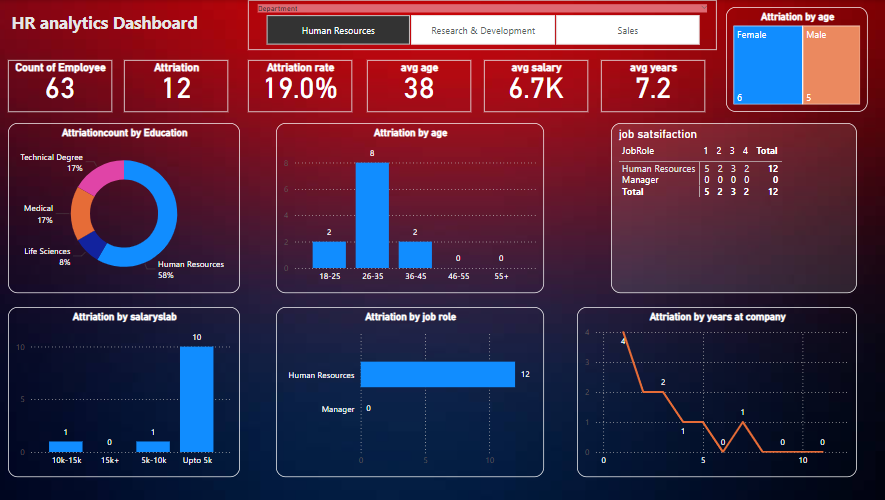

The page's visual inventory and layout, read from the dashboard file:
{"tool":"powerbi","page":{"name":"Page 1","canvas":[1280,720],"ordinal":0},"visuals":[{"type":"card","title":"Count of Employee","fields":{"Values":["CountNonNull(HR_Analytics (2).EmpID)"]},"box":[13,86.4,149.8,74.9],"z":0},{"type":"card","title":"avg age","fields":{"Values":["Avg(HR_Analytics (2).Age)"]},"box":[529.9,86.4,149.8,74.9],"z":1000},{"type":"card","title":"Attriation rate","fields":{"Values":["HR_Analytics (2).Attriationrate"]},"box":[358.6,86.4,149.8,74.9],"z":2000},{"type":"card","title":"Attriation","fields":{"Values":["Sum(HR_Analytics (2).Attriationcount)"]},"box":[180,86.4,149.8,74.9],"z":3000},{"type":"card","title":"avg salary","fields":{"Values":["Avg(HR_Analytics (2).MonthlyIncome)"]},"box":[698.4,86.4,149.8,74.9],"z":4000},{"type":"card","title":"avg years","fields":{"Values":["Avg(HR_Analytics (2).YearsAtCompany)"]},"box":[866.9,86.4,149.8,74.9],"z":5000},{"type":"donutChart","title":" Attriationcount by Education","fields":{"Category":["HR_Analytics (2).EducationField"],"Y":["Sum(HR_Analytics (2).Attriationcount)"]},"box":[13,177.1,334.1,244.8],"z":6000},{"type":"columnChart","title":" Attriation by age","fields":{"Category":["HR_Analytics (2).AgeGroup"],"Y":["Sum(HR_Analytics (2).Attriationcount)"]},"box":[398.9,177.1,385.9,244.8],"z":7000},{"type":"pivotTable","title":"job satsifaction","fields":{"Rows":["HR_Analytics (2).JobRole"],"Columns":["HR_Analytics (2).JobSatisfaction"],"Values":["Sum(HR_Analytics (2).Attriationcount)"]},"box":[881.3,177.1,354.2,244.8],"z":8000},{"type":"columnChart","title":" Attriation by salaryslab","fields":{"Category":["HR_Analytics (2).SalarySlab"],"Y":["Sum(HR_Analytics (2).Attriationcount)"]},"box":[13,442.1,334.1,244.8],"z":9000},{"type":"clusteredBarChart","title":" Attriation by job role","fields":{"Category":["HR_Analytics (2).JobRole"],"Y":["Sum(HR_Analytics (2).Attriationcount)"]},"box":[398.9,442.1,385.9,244.8],"z":10000},{"type":"lineChart","title":" Attriation by years at company","fields":{"Category":["HR_Analytics (2).YearsAtCompany"],"Y":["Sum(HR_Analytics (2).Attriationcount)"]},"box":[832.8,441.9,403.2,244.7],"z":11000},{"type":"treemap","title":" Attriation by age","fields":{"Group":["HR_Analytics (2).Gender"],"Values":["Sum(HR_Analytics (2).Attriationcount)"]},"box":[1046.9,10.1,204.5,151.2],"z":12000},{"type":"slicer","fields":{"Values":["HR_Analytics (2).Department"]},"box":[358.6,0,675.4,72],"z":13000},{"type":"textbox","box":[13,10.1,334.1,49],"z":14000}]}

Visuals, with their boxes in screenshot pixels (x1, y1, x2, y2), scaled from the page's 1280x720 canvas onto the 885x500 screenshot:
"Count of Employee" card: Rect(9, 60, 113, 112)
"avg age" card: Rect(366, 60, 470, 112)
"Attriation rate" card: Rect(248, 60, 352, 112)
"Attriation" card: Rect(124, 60, 228, 112)
"avg salary" card: Rect(483, 60, 586, 112)
"avg years" card: Rect(599, 60, 703, 112)
" Attriationcount by Education" donutChart: Rect(9, 123, 240, 293)
" Attriation by age" columnChart: Rect(276, 123, 543, 293)
"job satsifaction" pivotTable: Rect(609, 123, 854, 293)
" Attriation by salaryslab" columnChart: Rect(9, 307, 240, 477)
" Attriation by job role" clusteredBarChart: Rect(276, 307, 543, 477)
" Attriation by years at company" lineChart: Rect(576, 307, 855, 477)
" Attriation by age" treemap: Rect(724, 7, 865, 112)
slicer - HR_Analytics (2).Department: Rect(248, 0, 715, 50)
textbox: Rect(9, 7, 240, 41)
